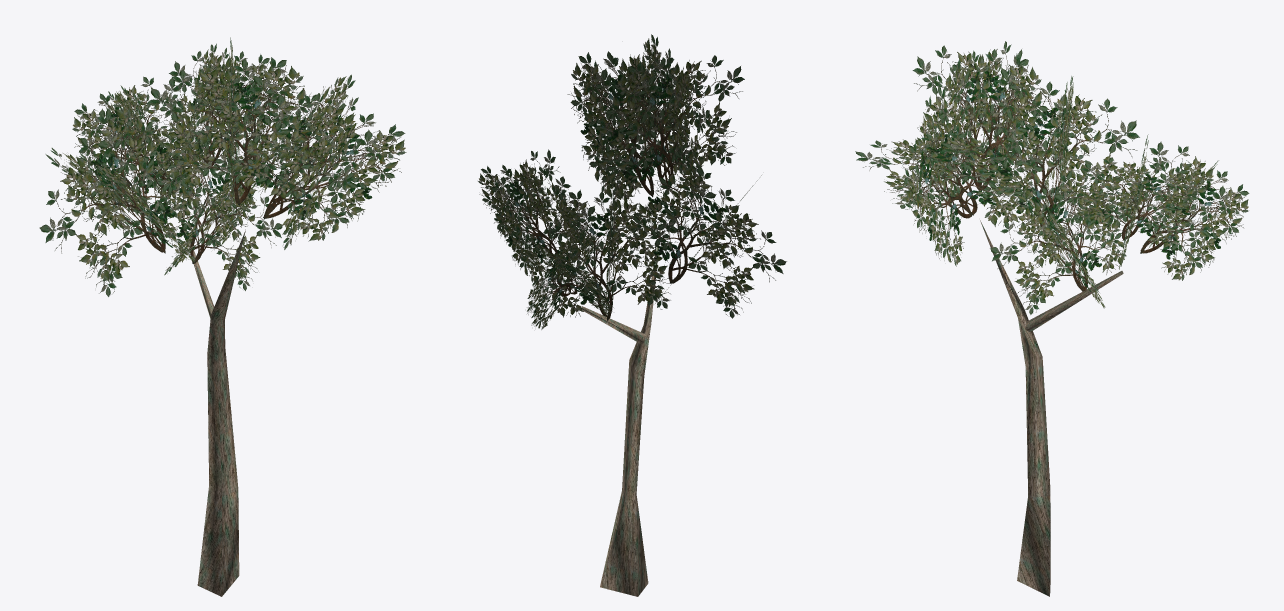
File: decd_dogwoodtreeleaves_a1_l2.fbx
3 renders of one model, left to right at view 1: azimuth 30°, elevation 25°; view 2: azimuth 150°, elevation 25°; view 3: azimuth 270°, elevation 25°, orthographic. The views are drawn at different scales.
Parts seen in each view (by area): view 1: mesh_node; view 2: mesh_node; view 3: mesh_node.
Boxes of the visible parts, x1,y1,x2,y2 form: mesh_node: (39,37,406,596); mesh_node: (478,34,786,596); mesh_node: (855,41,1249,596).
Bounding box in the file's own units: 13.14 × 21.1 × 15.36.
